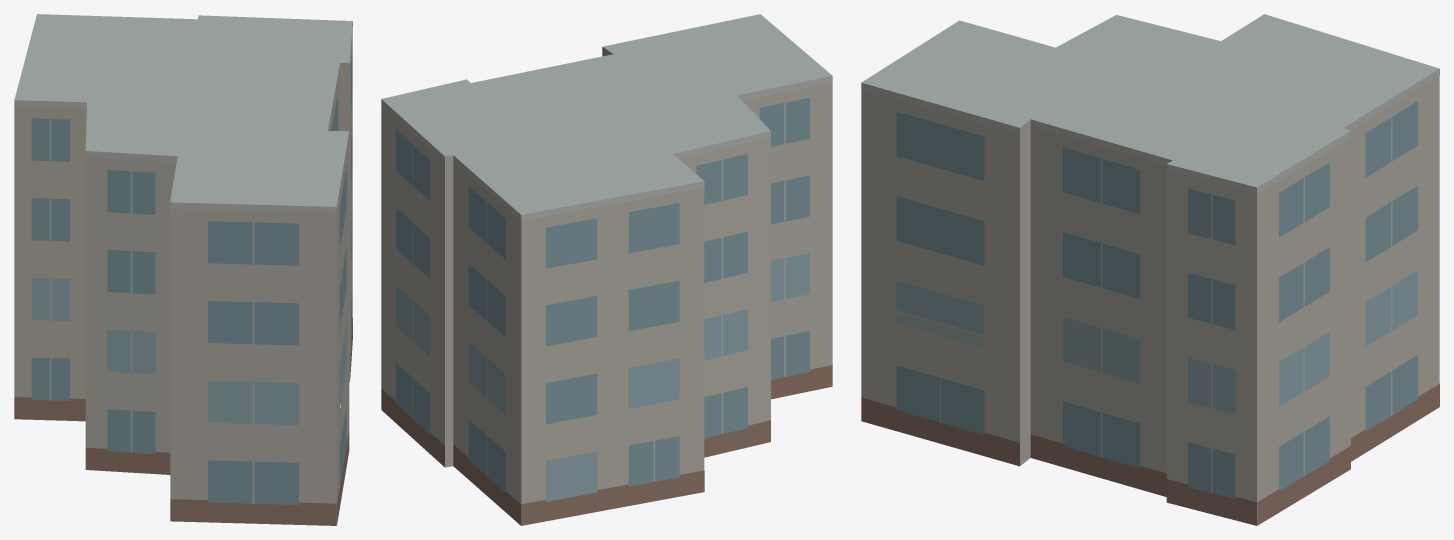
File: survey-upis-32614279.glb
The picture shows the model from 3 angles, left to right: view 1: azimuth 30°, elevation 25°; view 2: azimuth 150°, elevation 25°; view 3: azimuth 270°, elevation 25°; orthographic projection. The views are drawn at different scales.
Visible parts, largest first — view 1: survey-upis-32614279.tmp; view 2: survey-upis-32614279.tmp; view 3: survey-upis-32614279.tmp.
Part boxes in pixels (bbox=[...]): survey-upis-32614279.tmp: bbox=[14, 14, 352, 525]; survey-upis-32614279.tmp: bbox=[381, 14, 832, 525]; survey-upis-32614279.tmp: bbox=[861, 14, 1439, 525].
Size of the model in its own units: 13.41 by 12.2 by 18.91.
